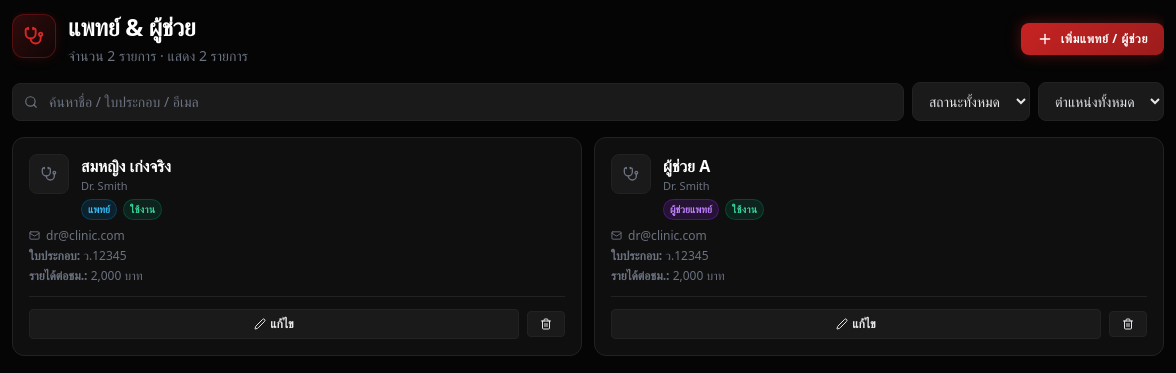
DoctorsTab › DT2: position filter isolates assistants
The image size is (1176, 373).
Expected: the heading "สมหญิง เก่งจริง" is shown, [81,155,171,177]
Select "ผู้ช่วยแพทย์" in the 2nd dropdown showing "ตำแหน่งทั้งหมด": [1101, 102] box [1038,82,1164,121]
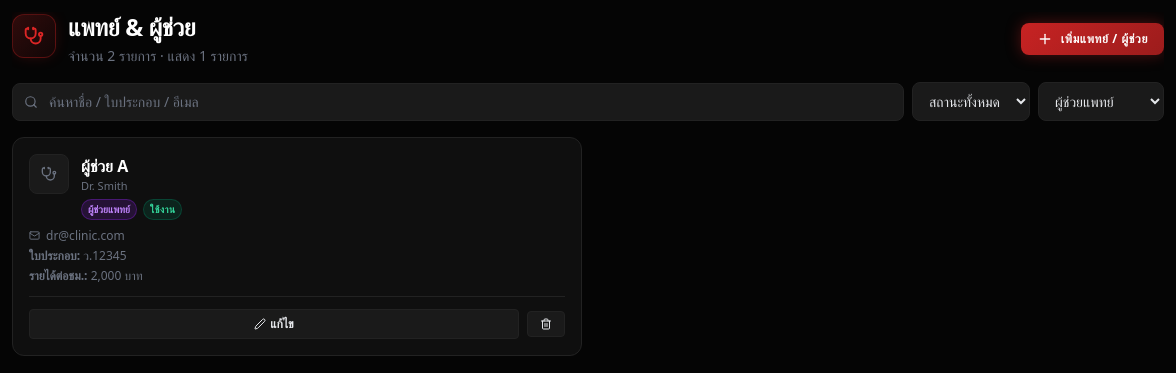
Expected: the heading "ผู้ช่วย A" is shown, [81,155,128,177]
Now the heading "สมหญิง เก่งจริง" is gone
